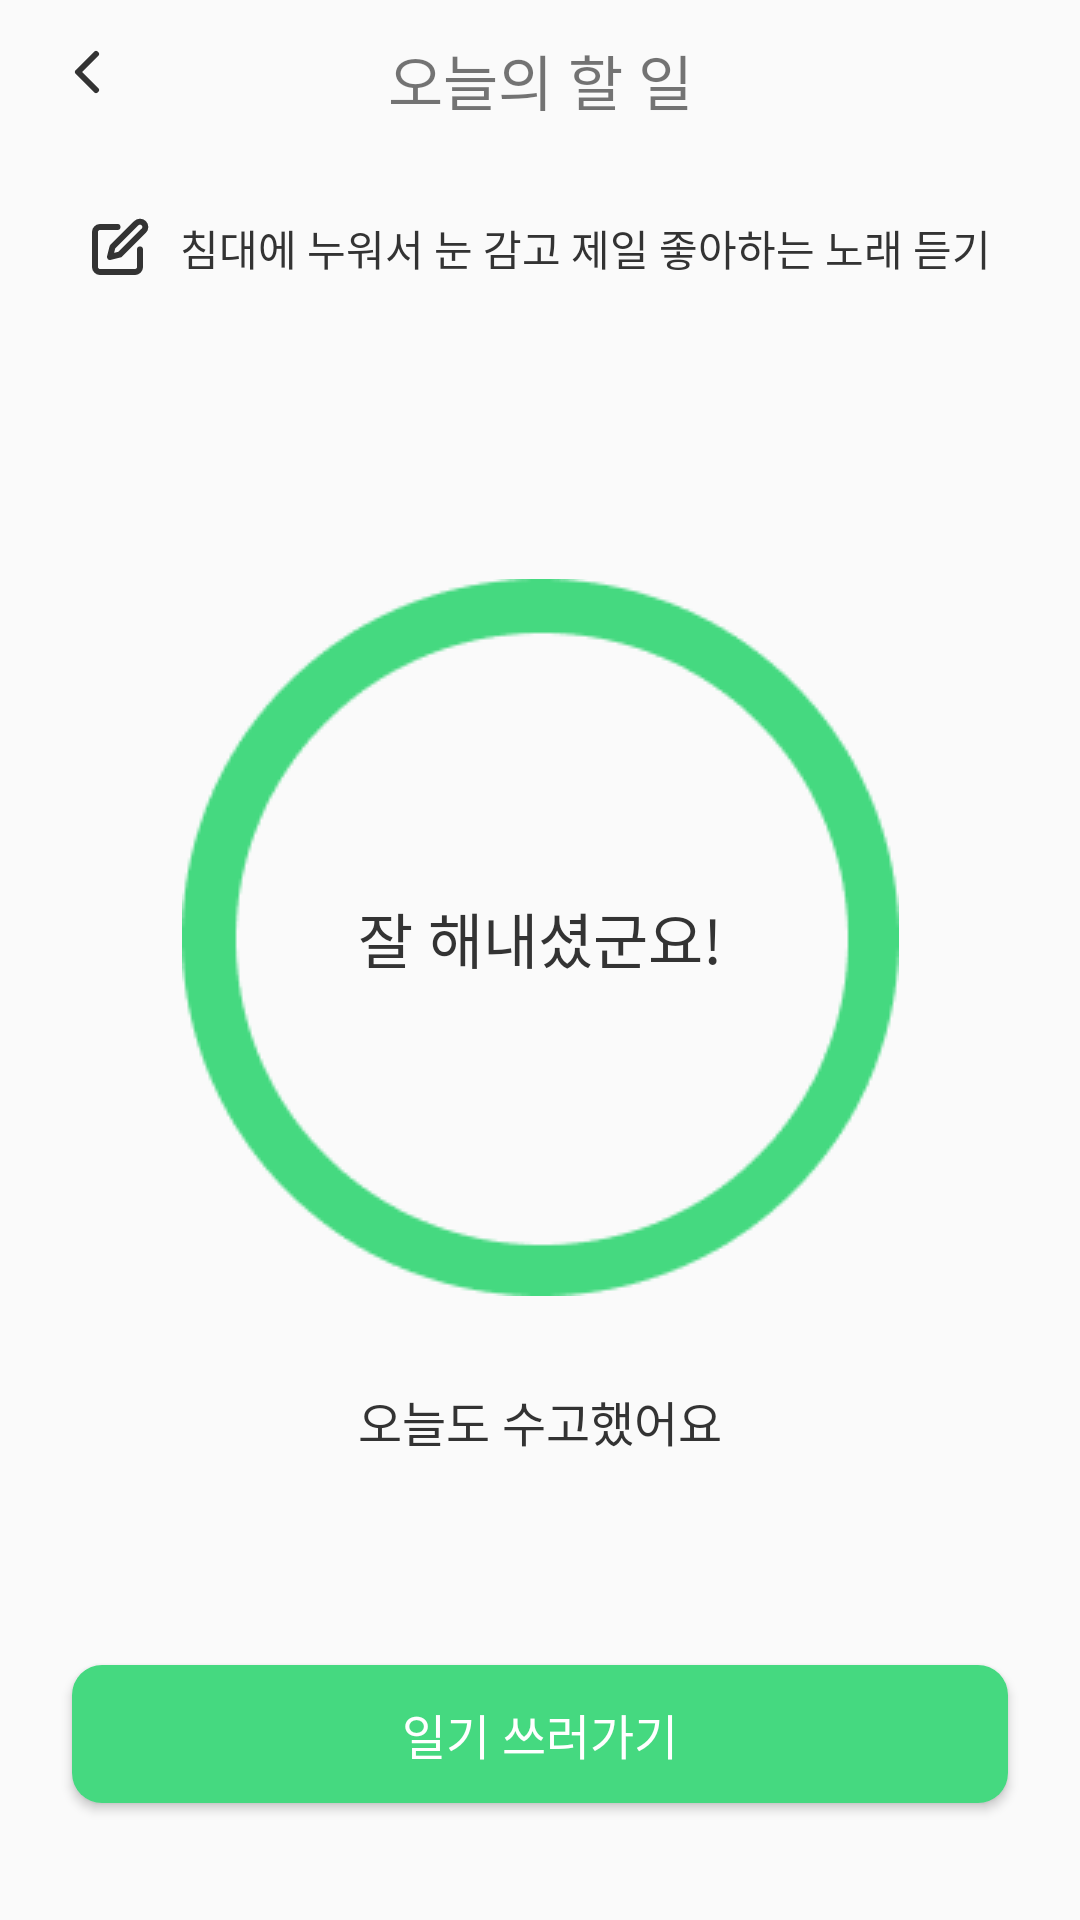

Where to tap for icons on this 1080px x 1920px app screen, as point (x, y):
back: point (87, 72)
edit: point (120, 246)
